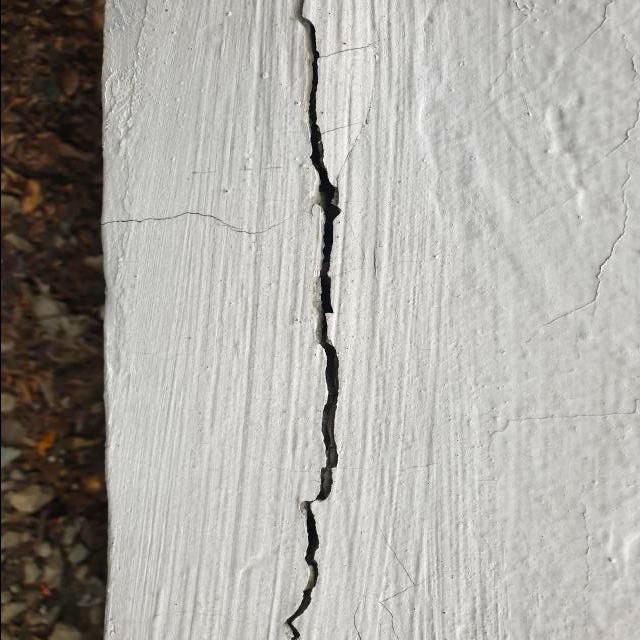SurfaceCrack: (230, 0, 379, 640), (522, 1, 640, 340)
